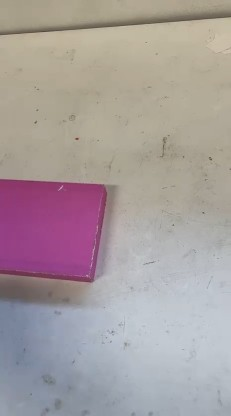pink: (0, 183, 112, 275)
